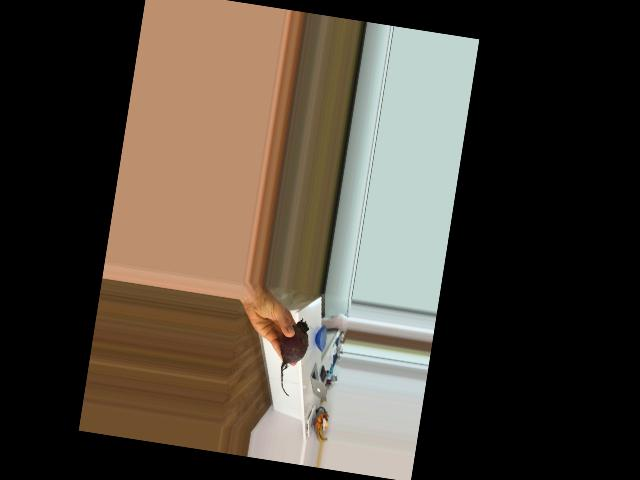beet: (272, 316, 311, 398)
